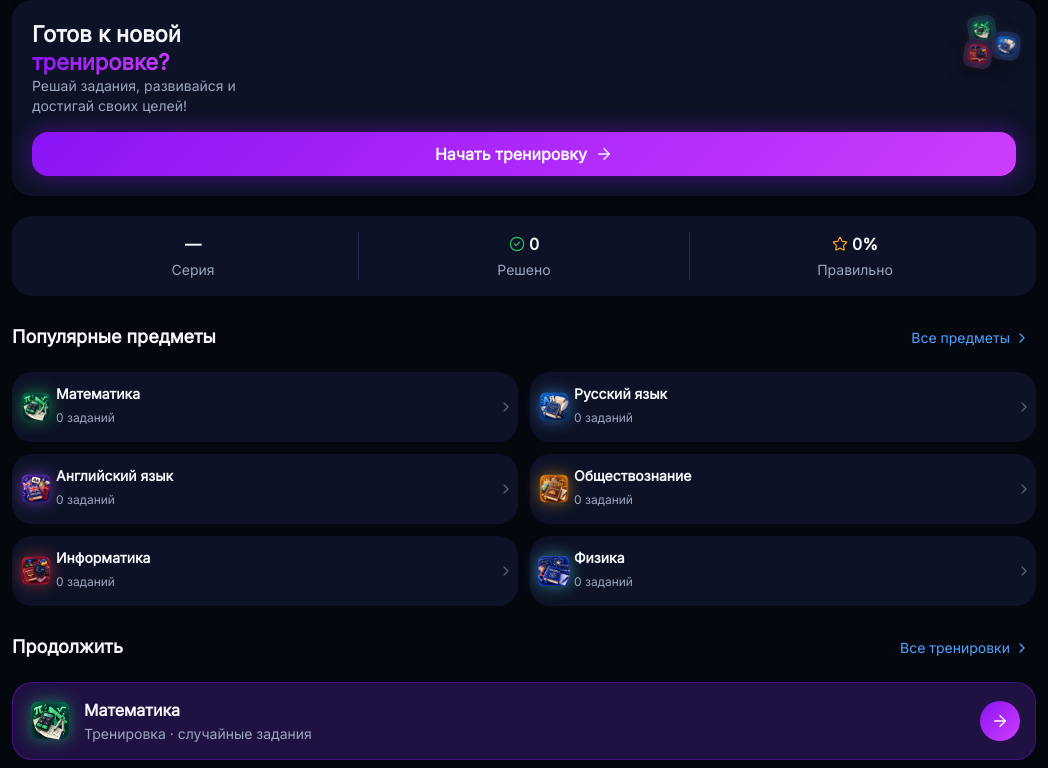
Test: HomeMobile › navigates to a subject overlay when a subject card is tapped
Click the button "Математика 0 заданий" at (36, 407), box [12,372,518,442]
(page scrolled)
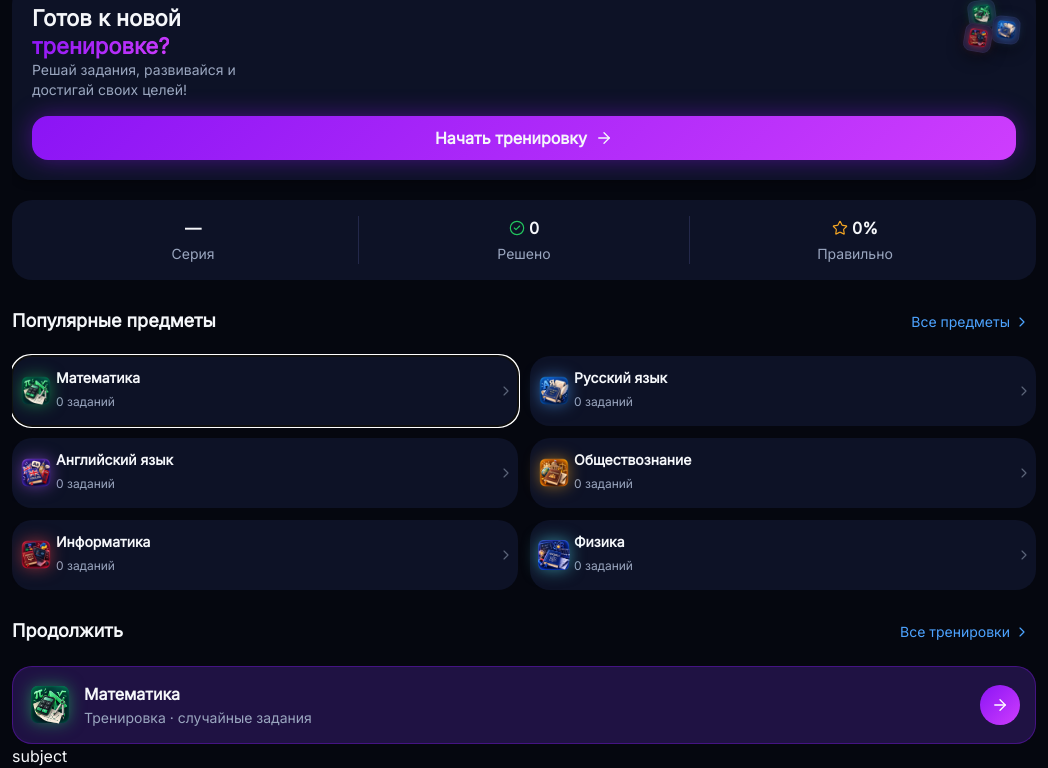
Expected: the text with test id "overlay" reads "subject", [12,746,67,766]
